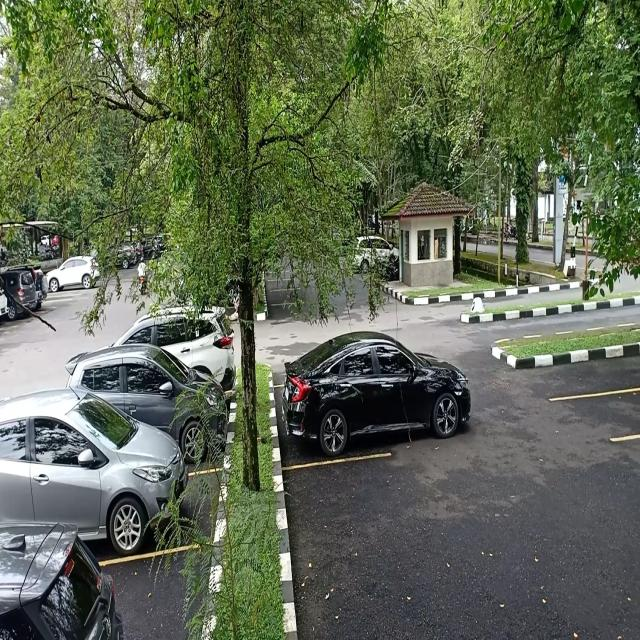occupied: (276, 378, 480, 457), (70, 448, 216, 558), (150, 364, 227, 475)
